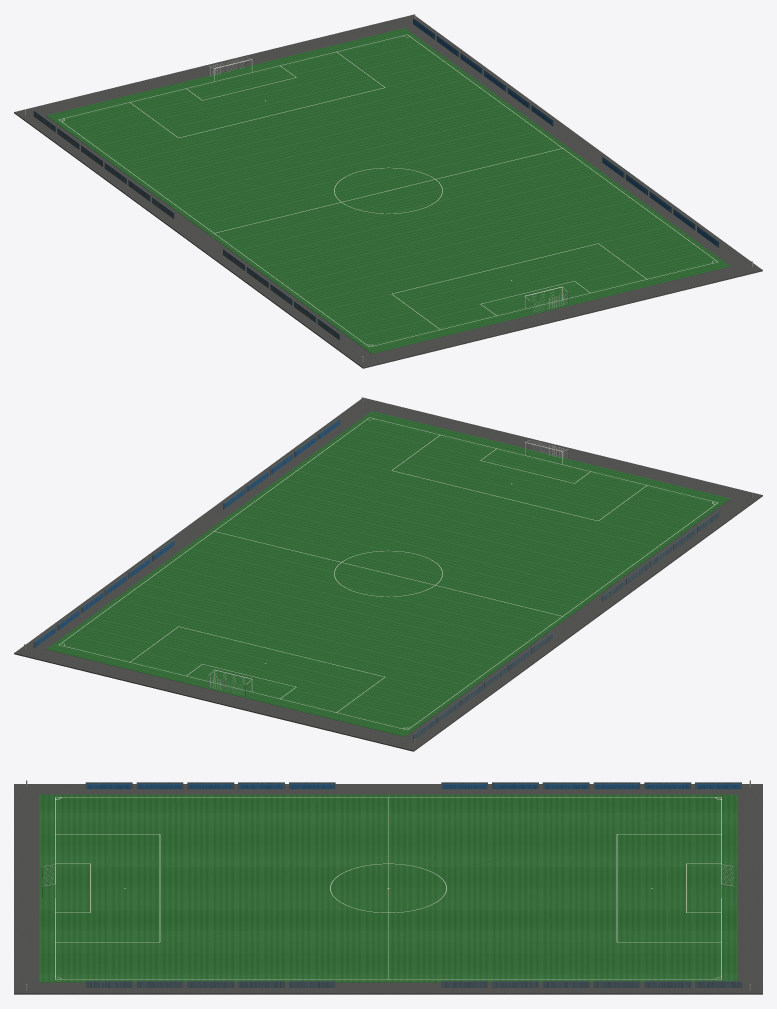
3 renders of one model, top to bottom at view 1: azimuth 30°, elevation 25°; view 2: azimuth 150°, elevation 25°; view 3: azimuth 270°, elevation 25°, orthographic. The views are drawn at different scales.
Parts seen in each view (by area): view 1: Turf_VIS_TurfDeck_1, Apron_VIS_PedestrianApron_1, Turf_VIS_MowStripe_02_1, Turf_VIS_MowStripe_08_1, Turf_VIS_MowStripe_00_1, Turf_VIS_MowStripe_06_1, Turf_VIS_MowStripe_04_1; view 2: Turf_VIS_TurfDeck_1, Apron_VIS_PedestrianApron_1, Turf_VIS_MowStripe_00_1, Turf_VIS_MowStripe_08_1, Turf_VIS_MowStripe_06_1, Turf_VIS_MowStripe_02_1, Turf_VIS_MowStripe_04_1; view 3: Turf_VIS_TurfDeck_1, Apron_VIS_PedestrianApron_1, Turf_VIS_MowStripe_04_1, Turf_VIS_MowStripe_00_1, Turf_VIS_MowStripe_02_1, Turf_VIS_MowStripe_08_1, Turf_VIS_MowStripe_06_1, Marks_VIS_Sideline_1, Marks_VIS_Sideline_2.
Part boxes in pixels (<box>): Turf_VIS_TurfDeck_1: <box>47,52,730,353</box>; Apron_VIS_PedestrianApron_1: <box>14,14,762,368</box>; Turf_VIS_MowStripe_02_1: <box>112,76,502,186</box>; Turf_VIS_MowStripe_08_1: <box>307,218,697,329</box>; Turf_VIS_MowStripe_00_1: <box>46,28,437,139</box>; Turf_VIS_MowStripe_06_1: <box>242,171,632,282</box>; Turf_VIS_MowStripe_04_1: <box>177,123,567,234</box>; Turf_VIS_TurfDeck_1: <box>46,411,730,736</box>; Apron_VIS_PedestrianApron_1: <box>14,397,762,751</box>; Turf_VIS_MowStripe_00_1: <box>46,625,436,736</box>; Turf_VIS_MowStripe_08_1: <box>307,435,697,545</box>; Turf_VIS_MowStripe_06_1: <box>242,482,632,593</box>; Turf_VIS_MowStripe_02_1: <box>112,578,502,688</box>; Turf_VIS_MowStripe_04_1: <box>177,530,567,641</box>; Turf_VIS_TurfDeck_1: <box>39,794,694,982</box>; Apron_VIS_PedestrianApron_1: <box>14,784,762,994</box>; Turf_VIS_MowStripe_04_1: <box>388,794,458,982</box>; Turf_VIS_MowStripe_00_1: <box>667,794,737,982</box>; Turf_VIS_MowStripe_02_1: <box>528,794,597,982</box>; Turf_VIS_MowStripe_08_1: <box>109,794,178,982</box>; Turf_VIS_MowStripe_06_1: <box>249,794,318,982</box>; Marks_VIS_Sideline_1: <box>55,797,721,797</box>; Marks_VIS_Sideline_2: <box>56,979,721,979</box>.
Size of the model in its own units: 78 by 2.74 by 118.
Materials: 7 (7 with a texture image).
